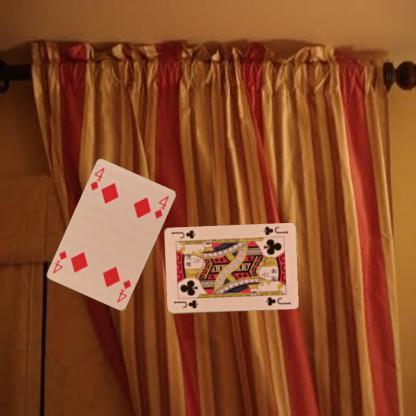4d: (88, 165, 106, 192), (115, 277, 132, 304)
Jc: (260, 224, 289, 236), (172, 298, 198, 310)
